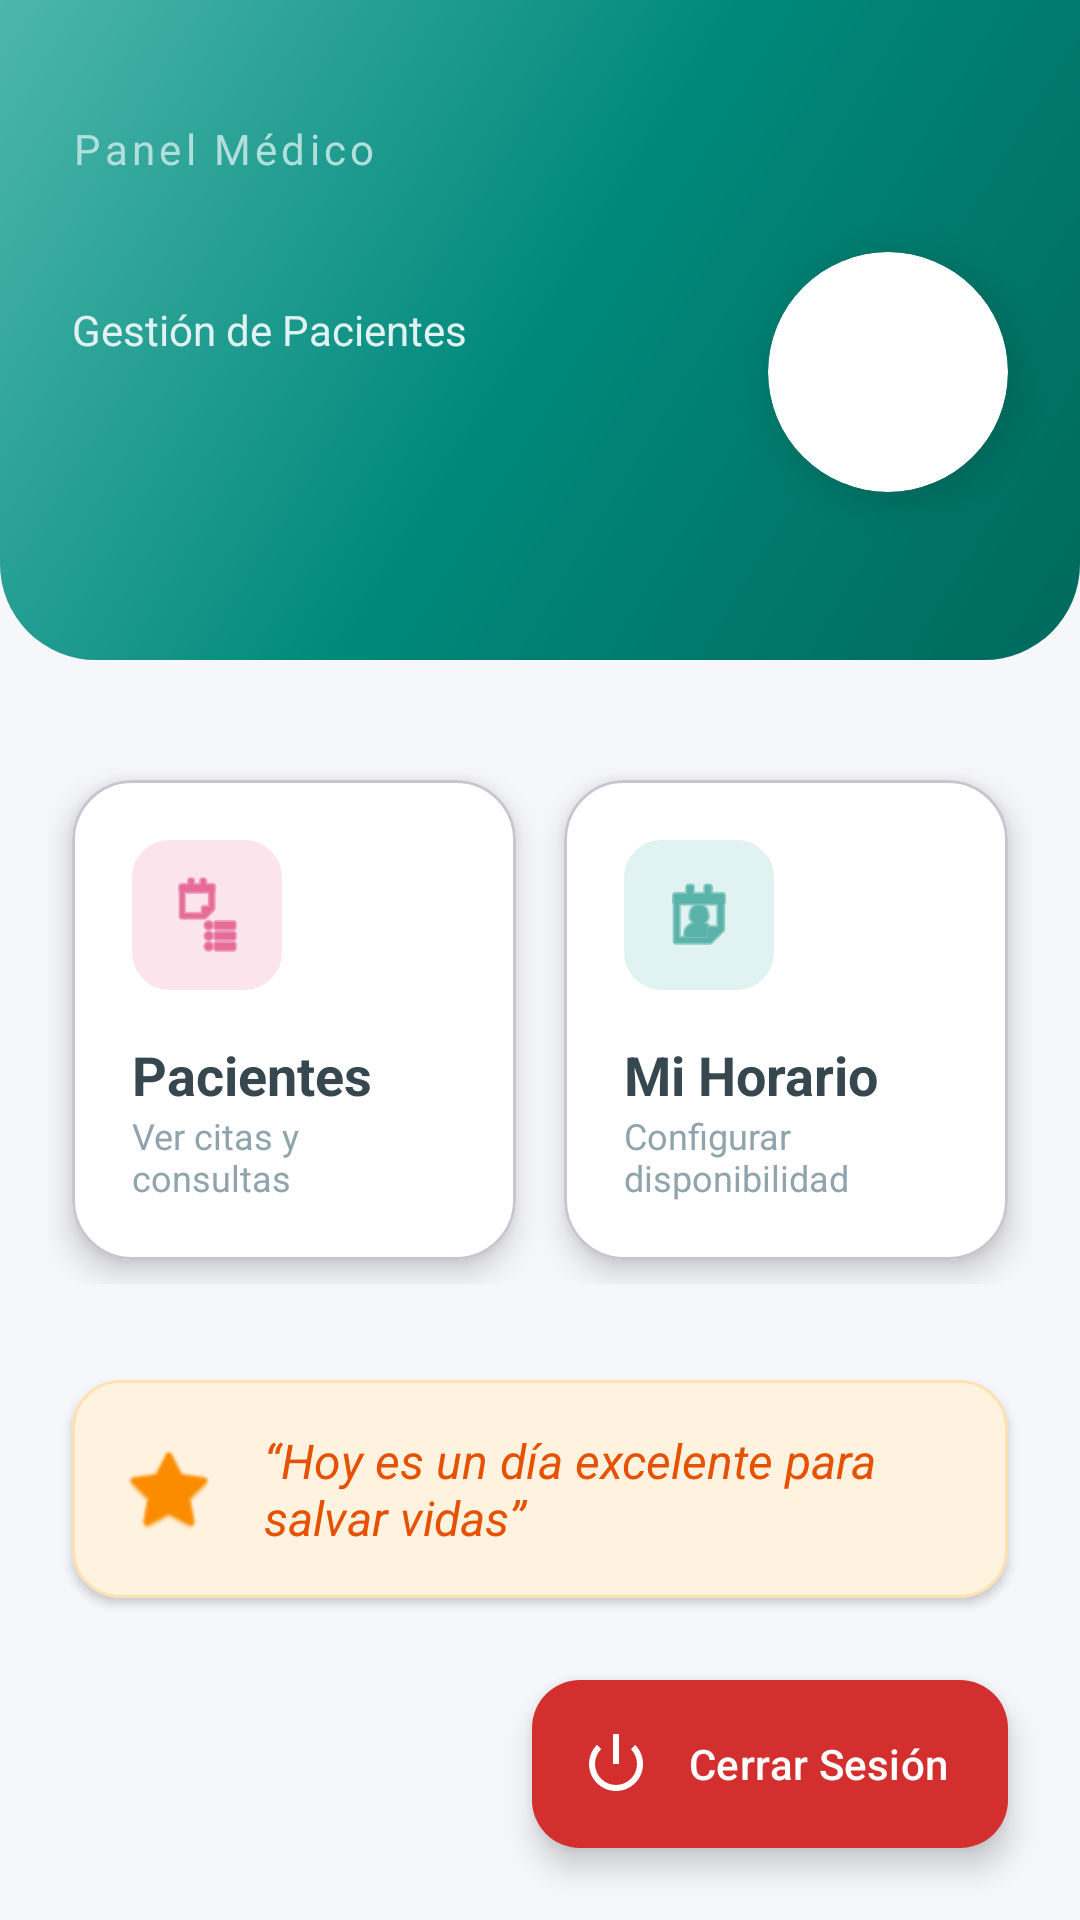

Icon click points for this 1080w x 1920h phone screenshot, format (x,y):
agenda: (207,914)
calendar: (699,914)
star on: (169,1490)
